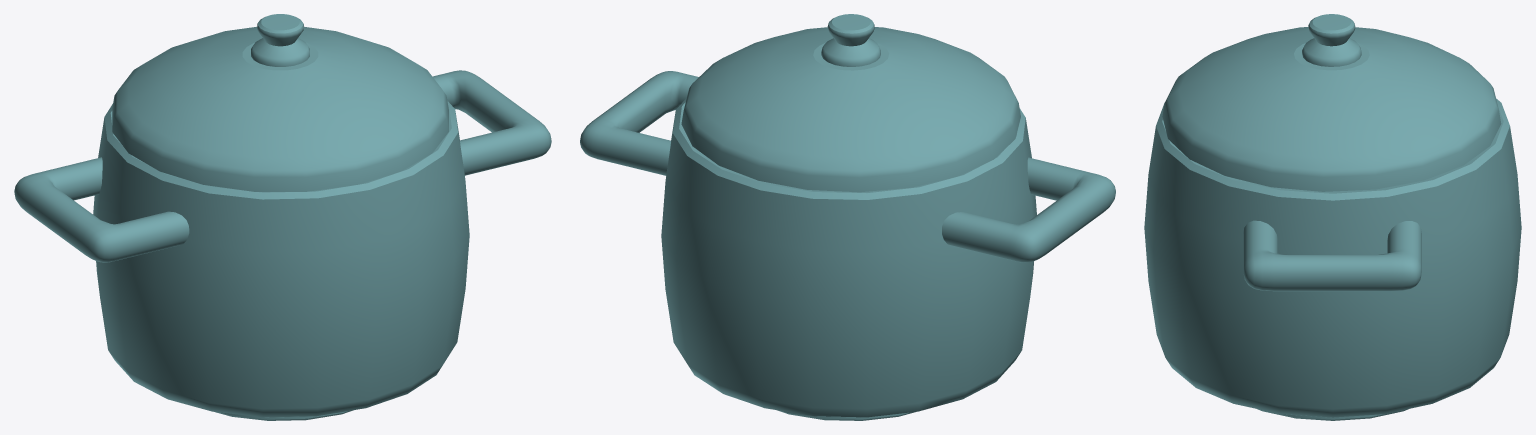
Rendered from SM_POT_G.fbx.
3 renders of one model, left to right at view 1: azimuth 30°, elevation 25°; view 2: azimuth 150°, elevation 25°; view 3: azimuth 270°, elevation 25°, orthographic.
Visible parts, largest first — view 1: SM_POT_G, SM_POT_TAP_G; view 2: SM_POT_G, SM_POT_TAP_G; view 3: SM_POT_G, SM_POT_TAP_G.
Boxes of the visible parts, left/top/right/bottom form: SM_POT_G: left=14, top=70, right=551, bottom=420; SM_POT_TAP_G: left=112, top=14, right=448, bottom=191; SM_POT_G: left=580, top=71, right=1115, bottom=420; SM_POT_TAP_G: left=681, top=14, right=1020, bottom=192; SM_POT_G: left=1144, top=98, right=1521, bottom=420; SM_POT_TAP_G: left=1162, top=14, right=1501, bottom=191.
Bounding box in the file's own units: 45.97 × 33.21 × 32.69.
